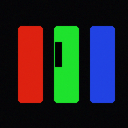4 line_v: (55, 42, 61, 66)
